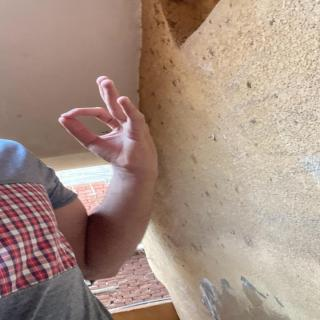Space: (61, 67, 169, 180)
